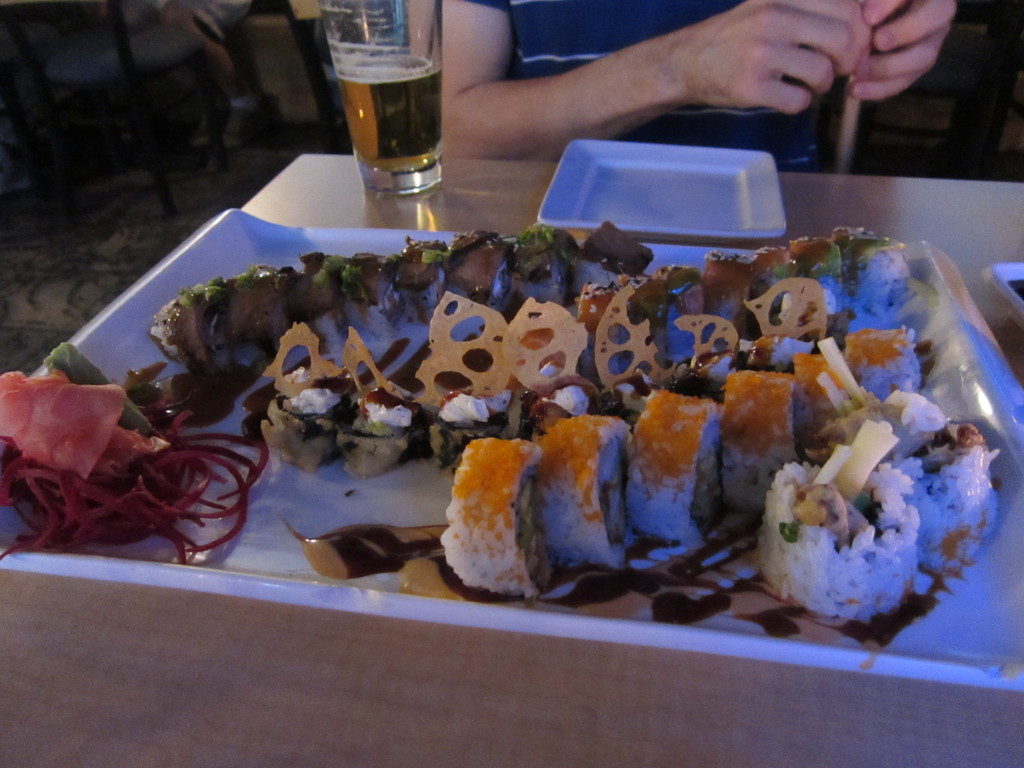sushi: (150, 224, 1005, 637)
